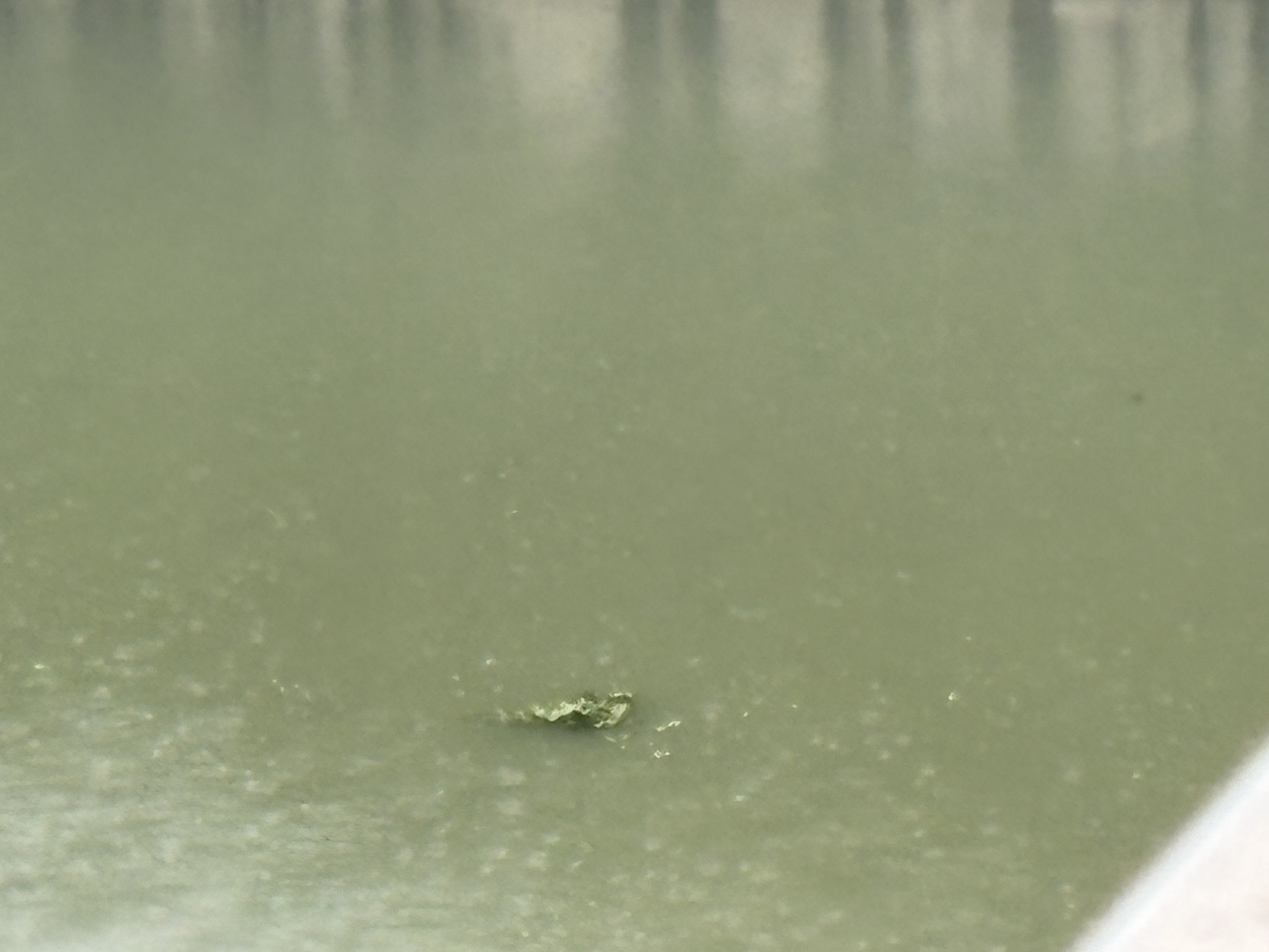Other: (498, 694, 633, 727)
